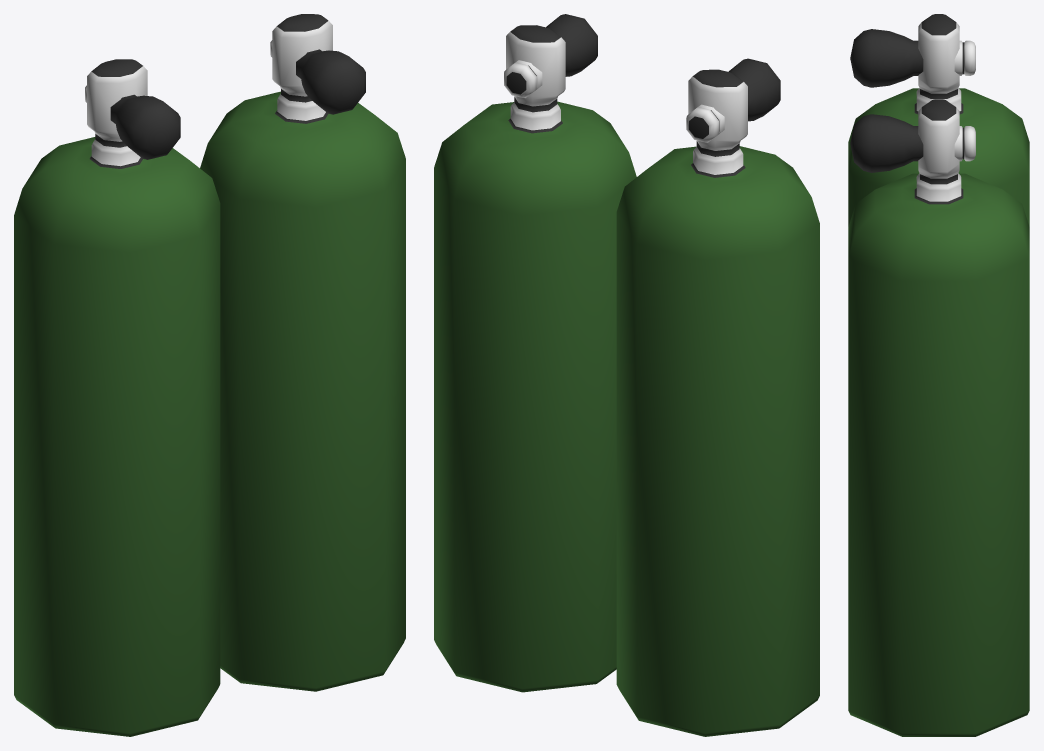
The model's file is scubatanks.glb.
The picture shows the model from 3 angles, left to right: view 1: azimuth 30°, elevation 25°; view 2: azimuth 150°, elevation 25°; view 3: azimuth 270°, elevation 25°; orthographic projection. The views are drawn at different scales.
Parts seen in each view (by area): view 1: primary, 2.034, 1.065; view 2: primary, 1.065, 2.034; view 3: primary, 2.034, 1.065.
Boxes of the visible parts, x1=… form: primary: x1=14, y1=91, x2=405, y2=736; 2.034: x1=89, y1=14, x2=365, y2=168; 1.065: x1=85, y1=20, x2=332, y2=166; primary: x1=434, y1=101, x2=819, y2=736; 1.065: x1=504, y1=32, x2=747, y2=174; 2.034: x1=506, y1=14, x2=780, y2=177; primary: x1=848, y1=88, x2=1029, y2=736; 2.034: x1=850, y1=14, x2=964, y2=204; 1.065: x1=916, y1=22, x2=975, y2=201.
Bounding box in the file's own units: 0.3599 × 0.6168 × 0.1703.
